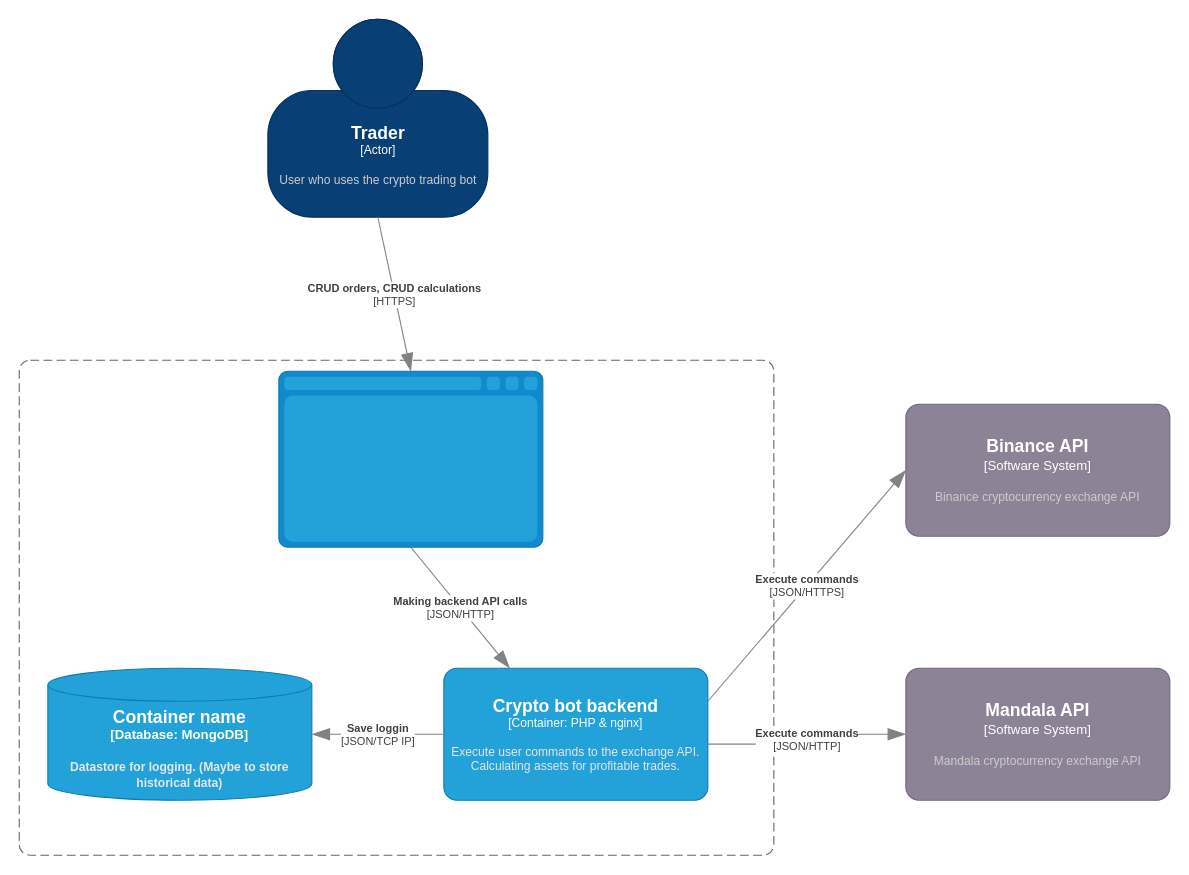
This 1189x875 diagram has some shape labels left out. Here are the shapes that lost their labels. From the top down, the box of each, then its label:
(278, 370, 543, 547): Single page application [Container : VueJs] CRUD orders, CRUD calculations etc
(18, 359, 774, 855): Crypto trading bot [Web application]
